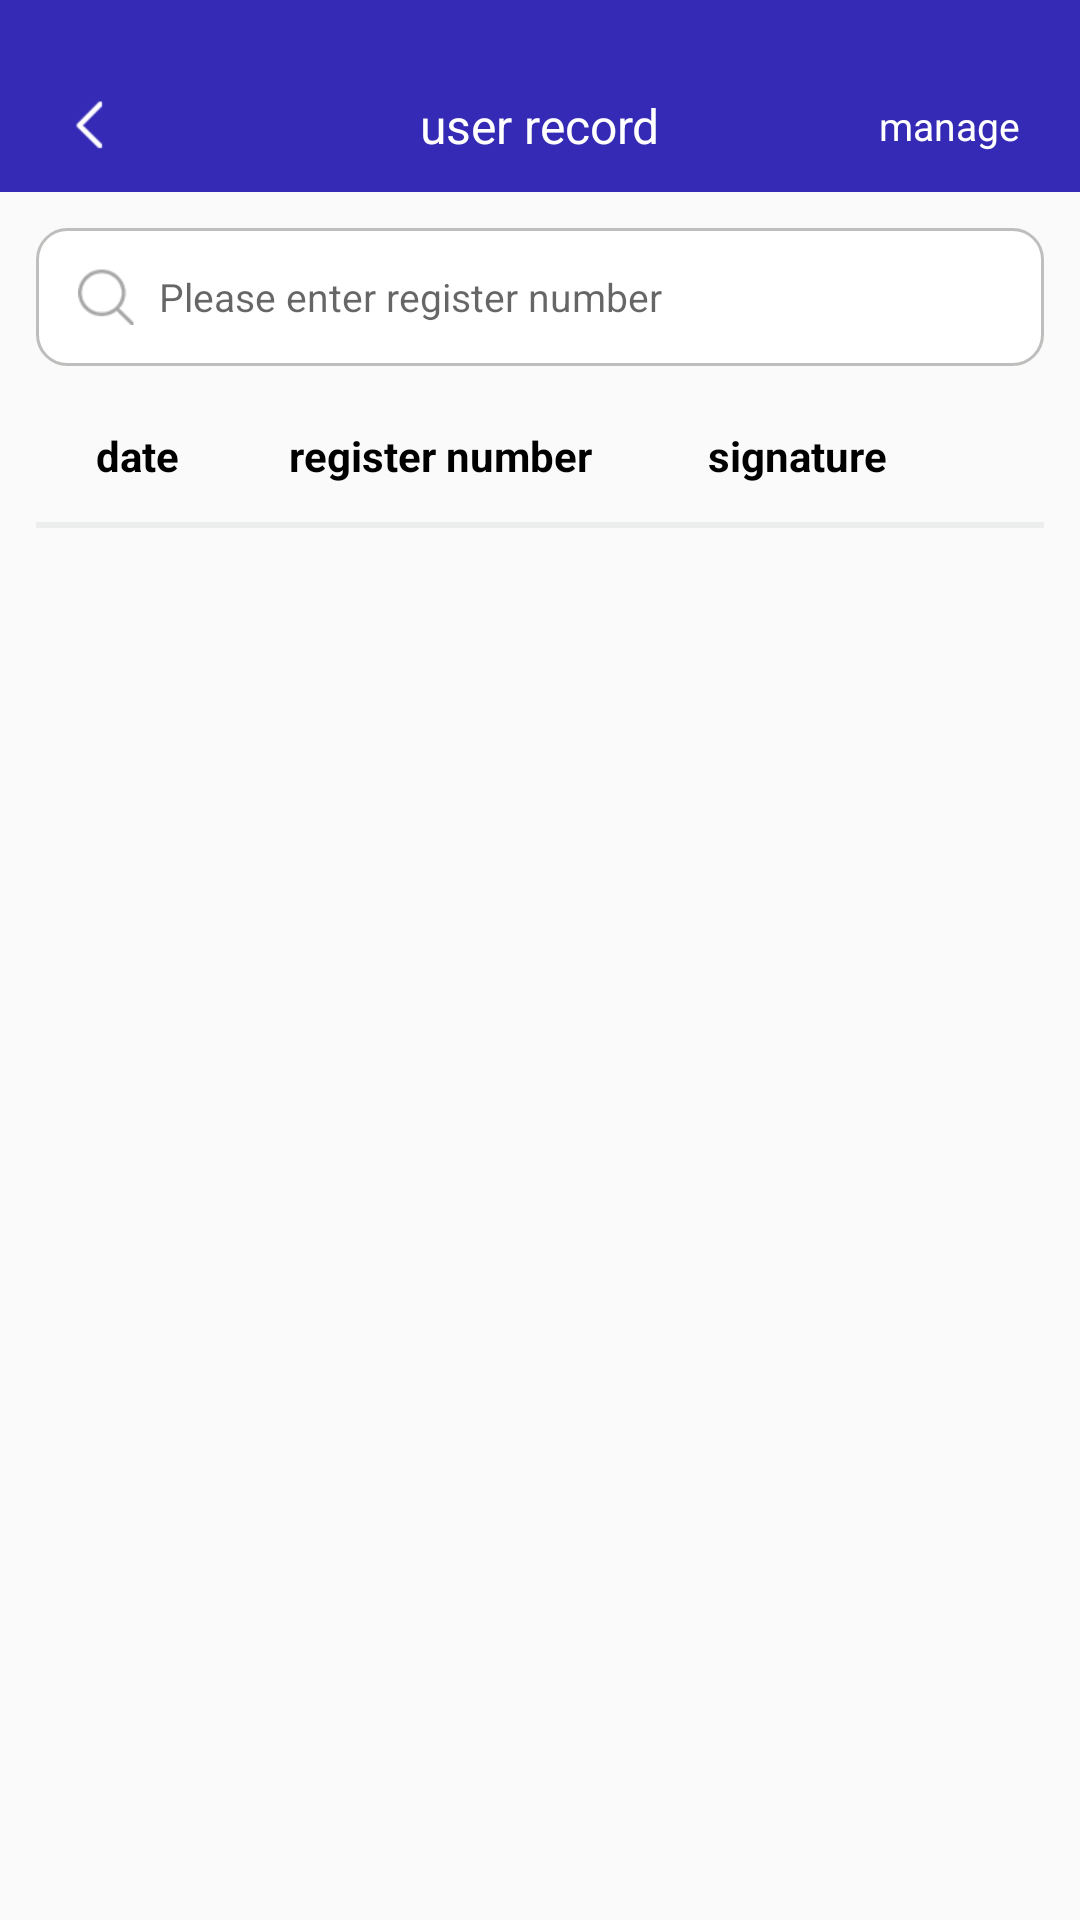

Named icons in this screenshot (1080px x 1920px) and their bounding boxes, (x1, y1, x2, y2):
back: (76, 101, 103, 149)
search: (78, 269, 134, 325)
